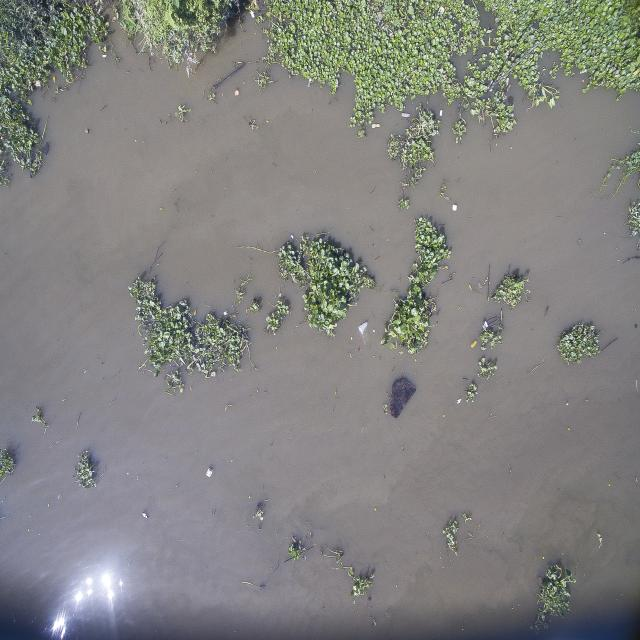plastic: (382, 374, 418, 422), (353, 316, 372, 339), (448, 198, 462, 218), (203, 464, 216, 484)
